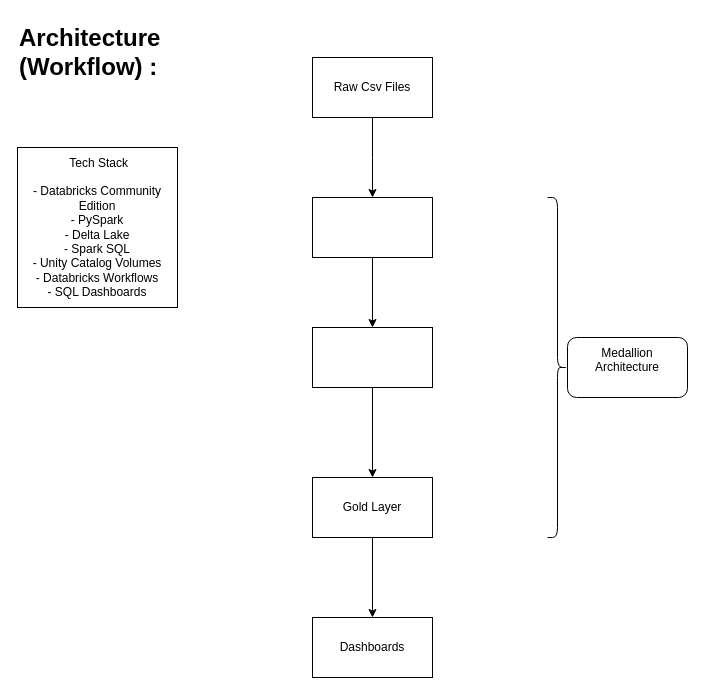
Image size: 705x695. Some labels were removed from this diagram. Here are the shapes that lost their labels. From the top down, the box of each, then its label:
(312, 196, 432, 258): Bronze Layer
(312, 326, 432, 388): Silver Layer
